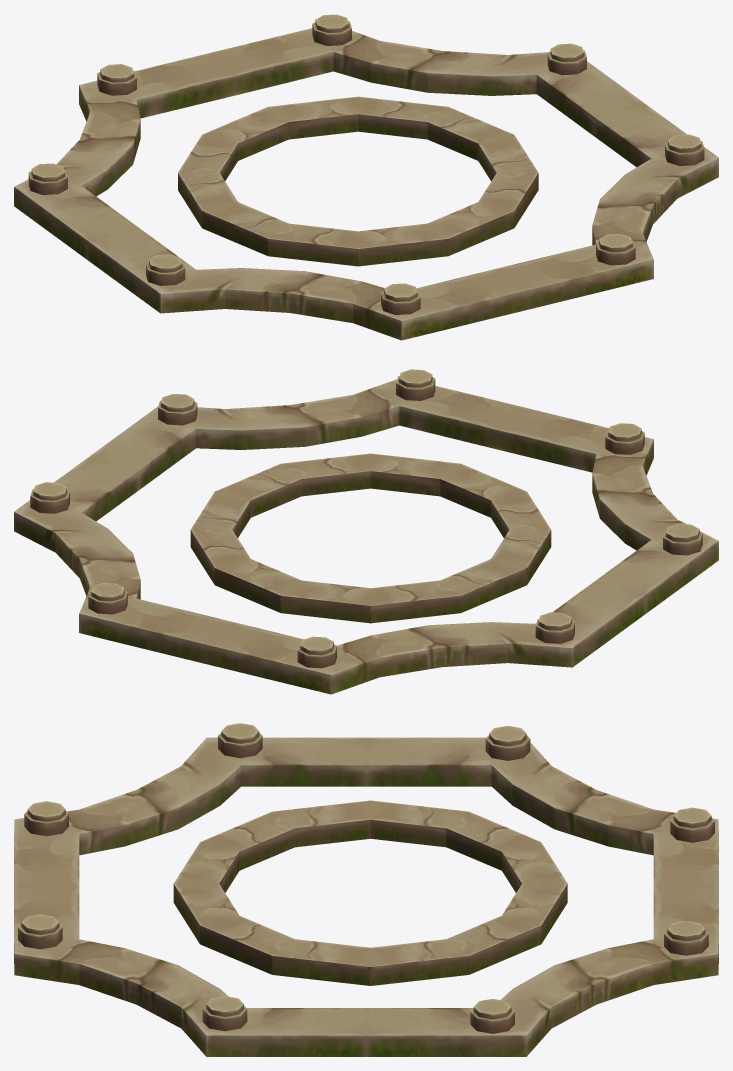
Rendered from Stage_ZhuCheng_ShiTai.FBX.
3 renders of one model, top to bottom at view 1: azimuth 30°, elevation 25°; view 2: azimuth 150°, elevation 25°; view 3: azimuth 270°, elevation 25°, orthographic. The views are drawn at different scales.
Parts seen in each view (by area): view 1: Stage_ZhuCheng_ShiTai; view 2: Stage_ZhuCheng_ShiTai; view 3: Stage_ZhuCheng_ShiTai.
Boxes of the visible parts, x1,y1,x2,y2 form: Stage_ZhuCheng_ShiTai: [14, 14, 718, 340]; Stage_ZhuCheng_ShiTai: [14, 369, 718, 694]; Stage_ZhuCheng_ShiTai: [14, 723, 718, 1056].
Size of the model in its own units: 806 by 49.24 by 806.
